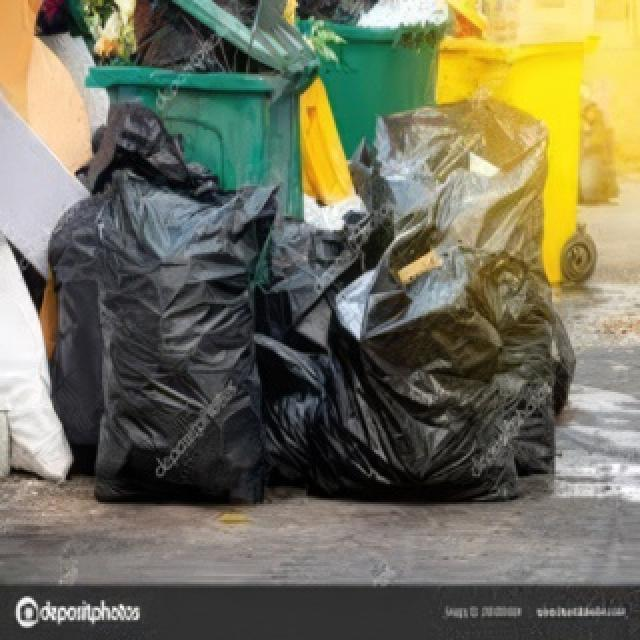Trashbag: (305, 251, 567, 501), (91, 163, 275, 513), (362, 96, 562, 300)
